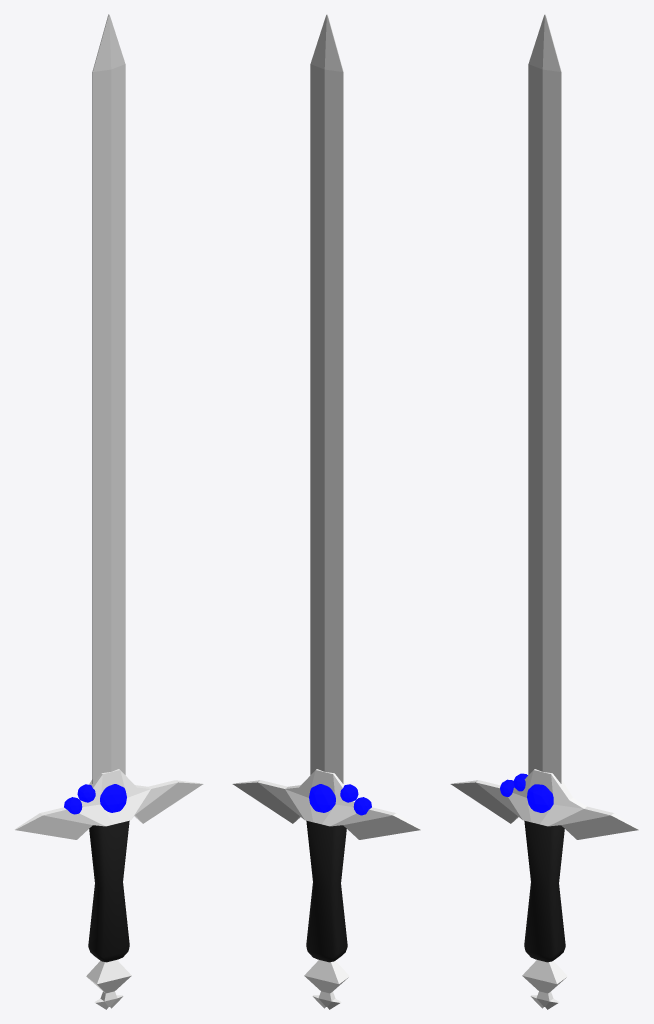
Rendered from sword_02.fbx.
3 views of the same model, side by side, from view 1: azimuth 30°, elevation 25°; view 2: azimuth 150°, elevation 25°; view 3: azimuth 330°, elevation 25° (orthographic).
Visible parts, largest first — view 1: Cube.003, Cube.002, Cube, Cube.001, Icosphere; view 2: Cube.003, Cube.002, Cube, Cube.001, Icosphere; view 3: Cube.003, Cube.002, Cube, Cube.001, Icosphere.
Boxes of the visible parts, x1,y1,x2,y2 form: Cube.003: [92, 14, 125, 783]; Cube.002: [14, 769, 203, 839]; Cube: [88, 820, 129, 962]; Cube.001: [86, 960, 131, 1009]; Icosphere: [100, 784, 126, 812]; Cube.003: [310, 14, 343, 783]; Cube.002: [232, 769, 421, 839]; Cube: [306, 820, 347, 962]; Cube.001: [304, 960, 349, 1009]; Icosphere: [309, 784, 335, 812]; Cube.003: [528, 14, 561, 783]; Cube.002: [450, 769, 639, 839]; Cube: [524, 820, 565, 962]; Cube.001: [522, 960, 567, 1009]; Icosphere: [527, 784, 553, 812].
Size of the model in its own units: 1154 by 5814 by 200.
